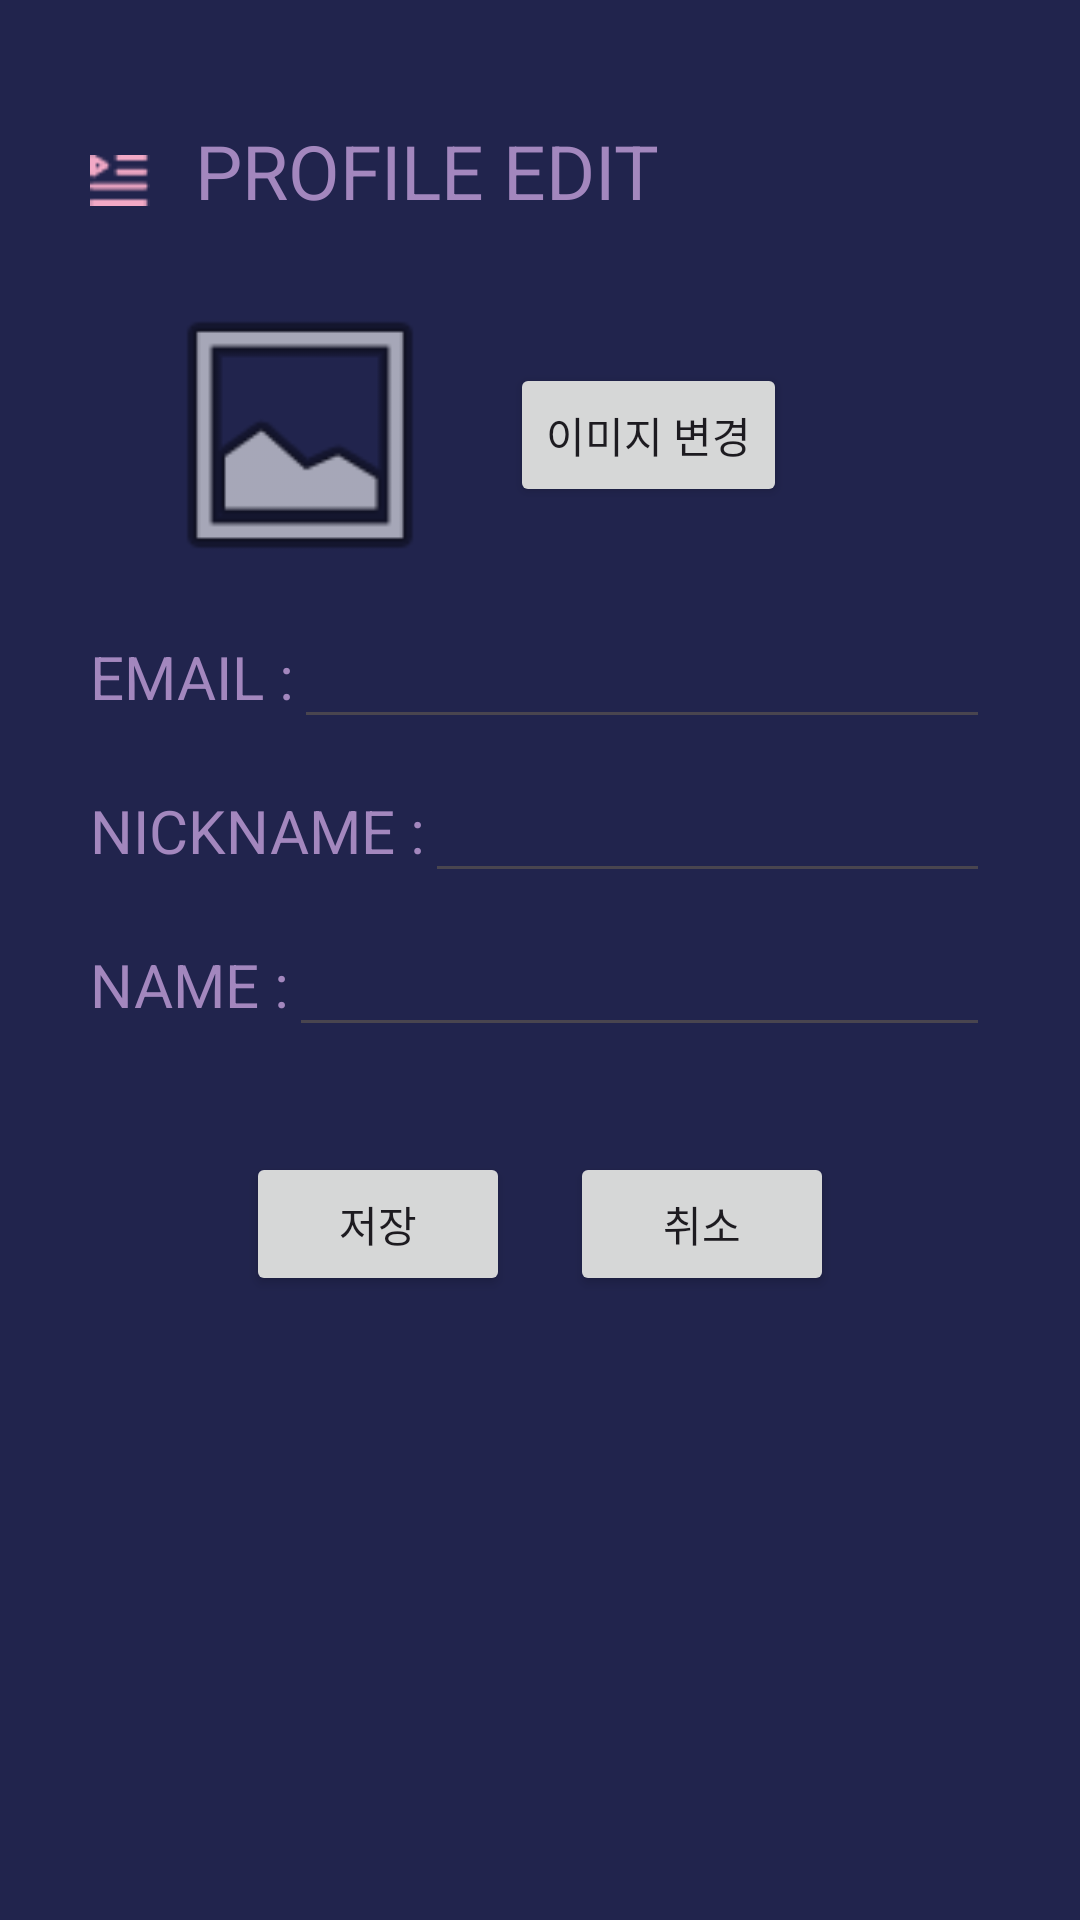

Where to tap for icons on this 1080 x 1920 app screen, as [x,y]:
gallery: [300,435]
list: [119,180]
